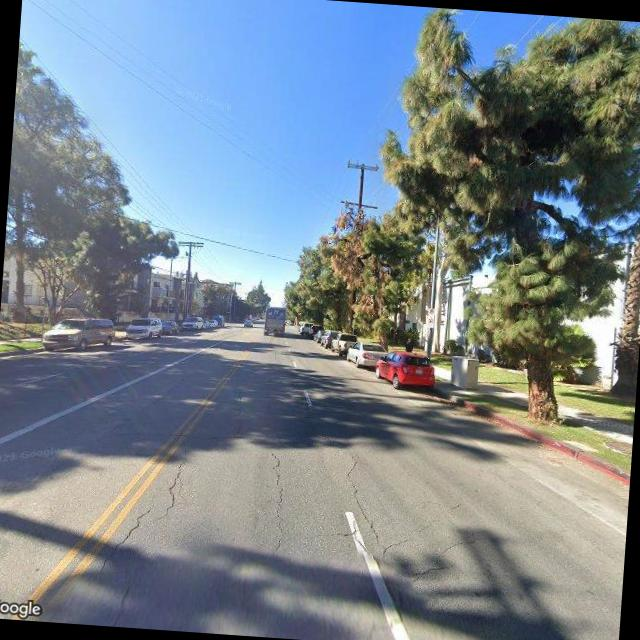pothole: (328, 439, 422, 608), (94, 426, 192, 583), (263, 448, 291, 562)
